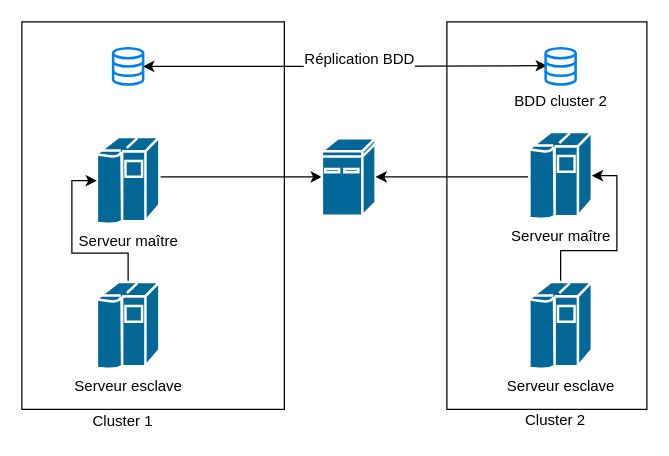
Some shapes in this 669 by 456 pixel diagram are drawn without their labels. Each missing label, with the centre of its shape:
"BDD cluster 1" belongs at point 127,65.
"HAProxy" belongs at point 348,176.
